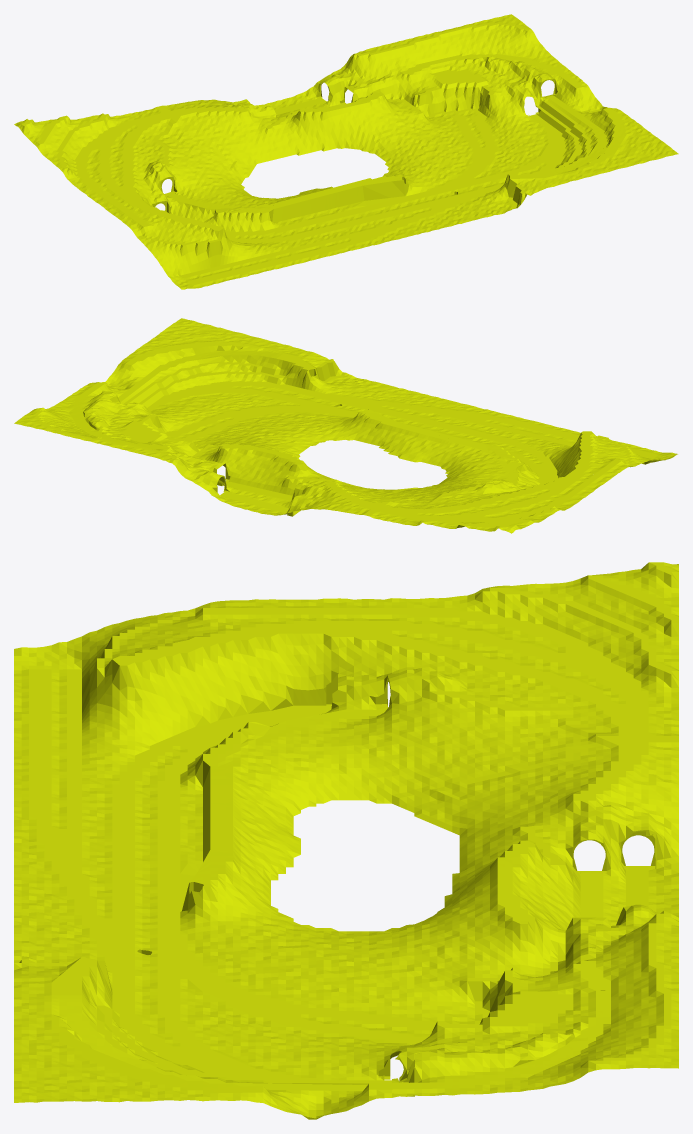
File: GMLID_TIN436865_187531_1154.gltf
3 renders of one model, top to bottom at view 1: azimuth 30°, elevation 25°; view 2: azimuth 150°, elevation 25°; view 3: azimuth 270°, elevation 25°, orthographic. The views are drawn at different scales.
Parts seen in each view (by area): view 1: Z_UP; view 2: Z_UP; view 3: Z_UP.
Part boxes in pixels (bbox=[...]): Z_UP: bbox=[14, 14, 678, 289]; Z_UP: bbox=[14, 318, 677, 533]; Z_UP: bbox=[14, 562, 678, 1119].
Size of the model in its own units: 362 by 35.44 by 211.
